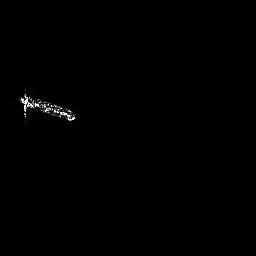ship: (15, 85, 80, 126)
